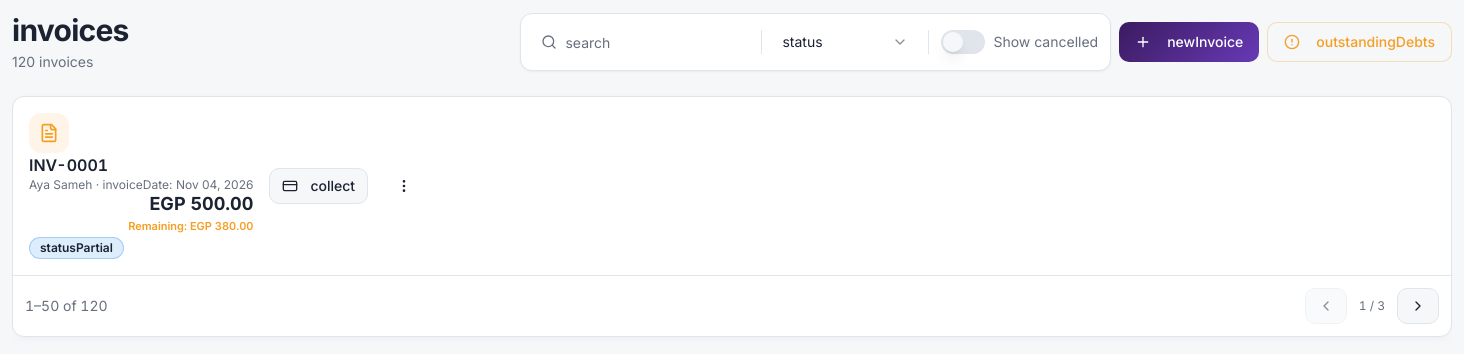
showing cancelled invoices › brings the voided rows back when the desk switches them on
Expected: the text "INV-0001" is shown, [29, 153, 108, 177]
What coordinates should you click on to do the following:
click the switch
I would click on:
 (963, 42)
Its box is [941, 30, 985, 54].
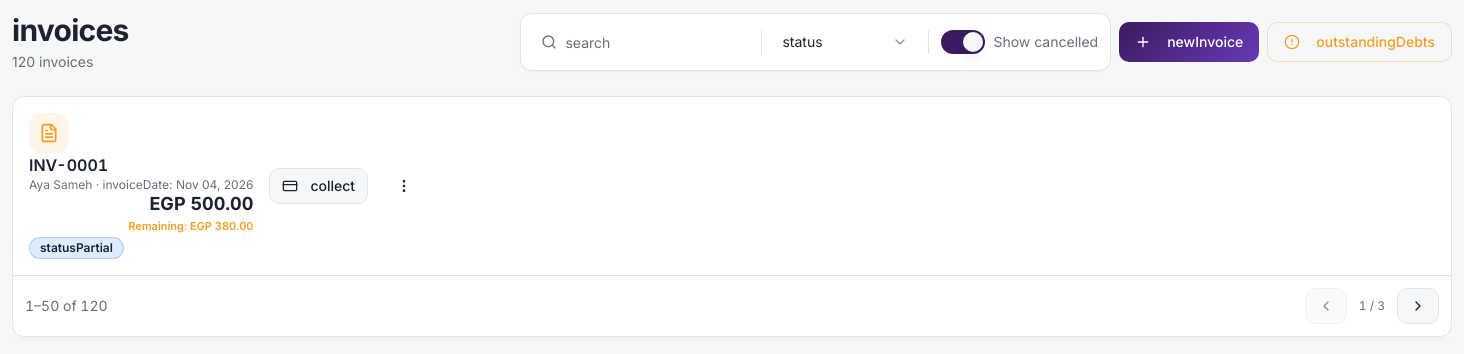
Expected: the switch is checked, [941, 30, 985, 54]
